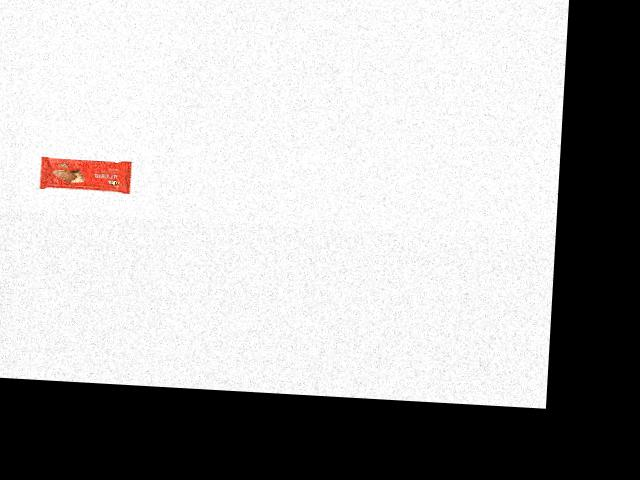chocolate: (40, 155, 135, 193)
